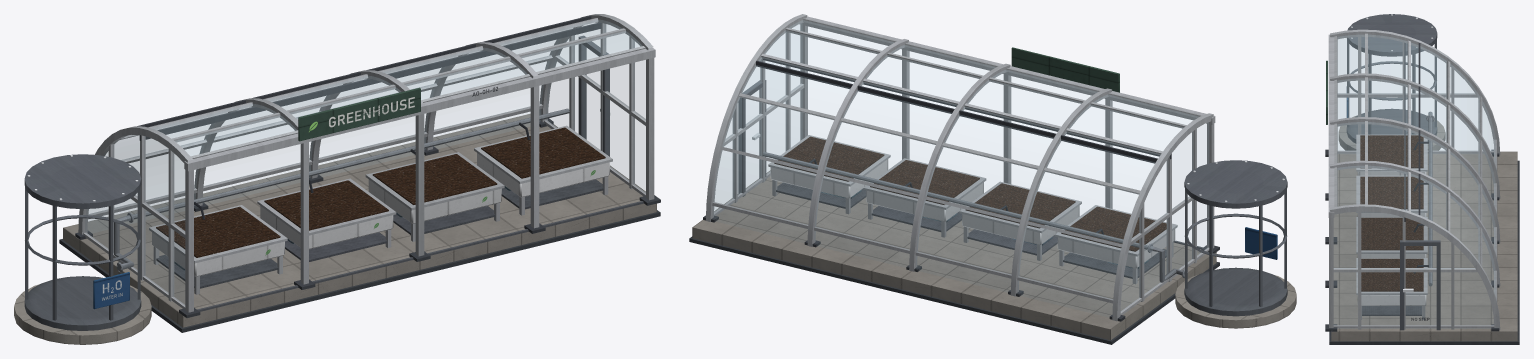
Rendered from greenhouse.glb.
3 views of the same model, side by side, from view 1: azimuth 30°, elevation 25°; view 2: azimuth 150°, elevation 25°; view 3: azimuth 270°, elevation 25° (orthographic). The views are drawn at different scales.
Parts seen in each view (by area): view 1: greenhouse_body, greenhouse_glass; view 2: greenhouse_body, greenhouse_glass; view 3: greenhouse_body, greenhouse_glass.
Boxes of the visible parts, box(x1,y1,x2,y2) form: greenhouse_body: box(14, 14, 660, 344); greenhouse_glass: box(85, 20, 645, 304); greenhouse_body: box(689, 14, 1296, 344); greenhouse_glass: box(713, 20, 1208, 316); greenhouse_body: box(1325, 14, 1519, 344); greenhouse_glass: box(1334, 35, 1494, 324).
Size of the model in its own units: 13.22 by 3.99 by 4.8.
9 materials, 6 textured.
